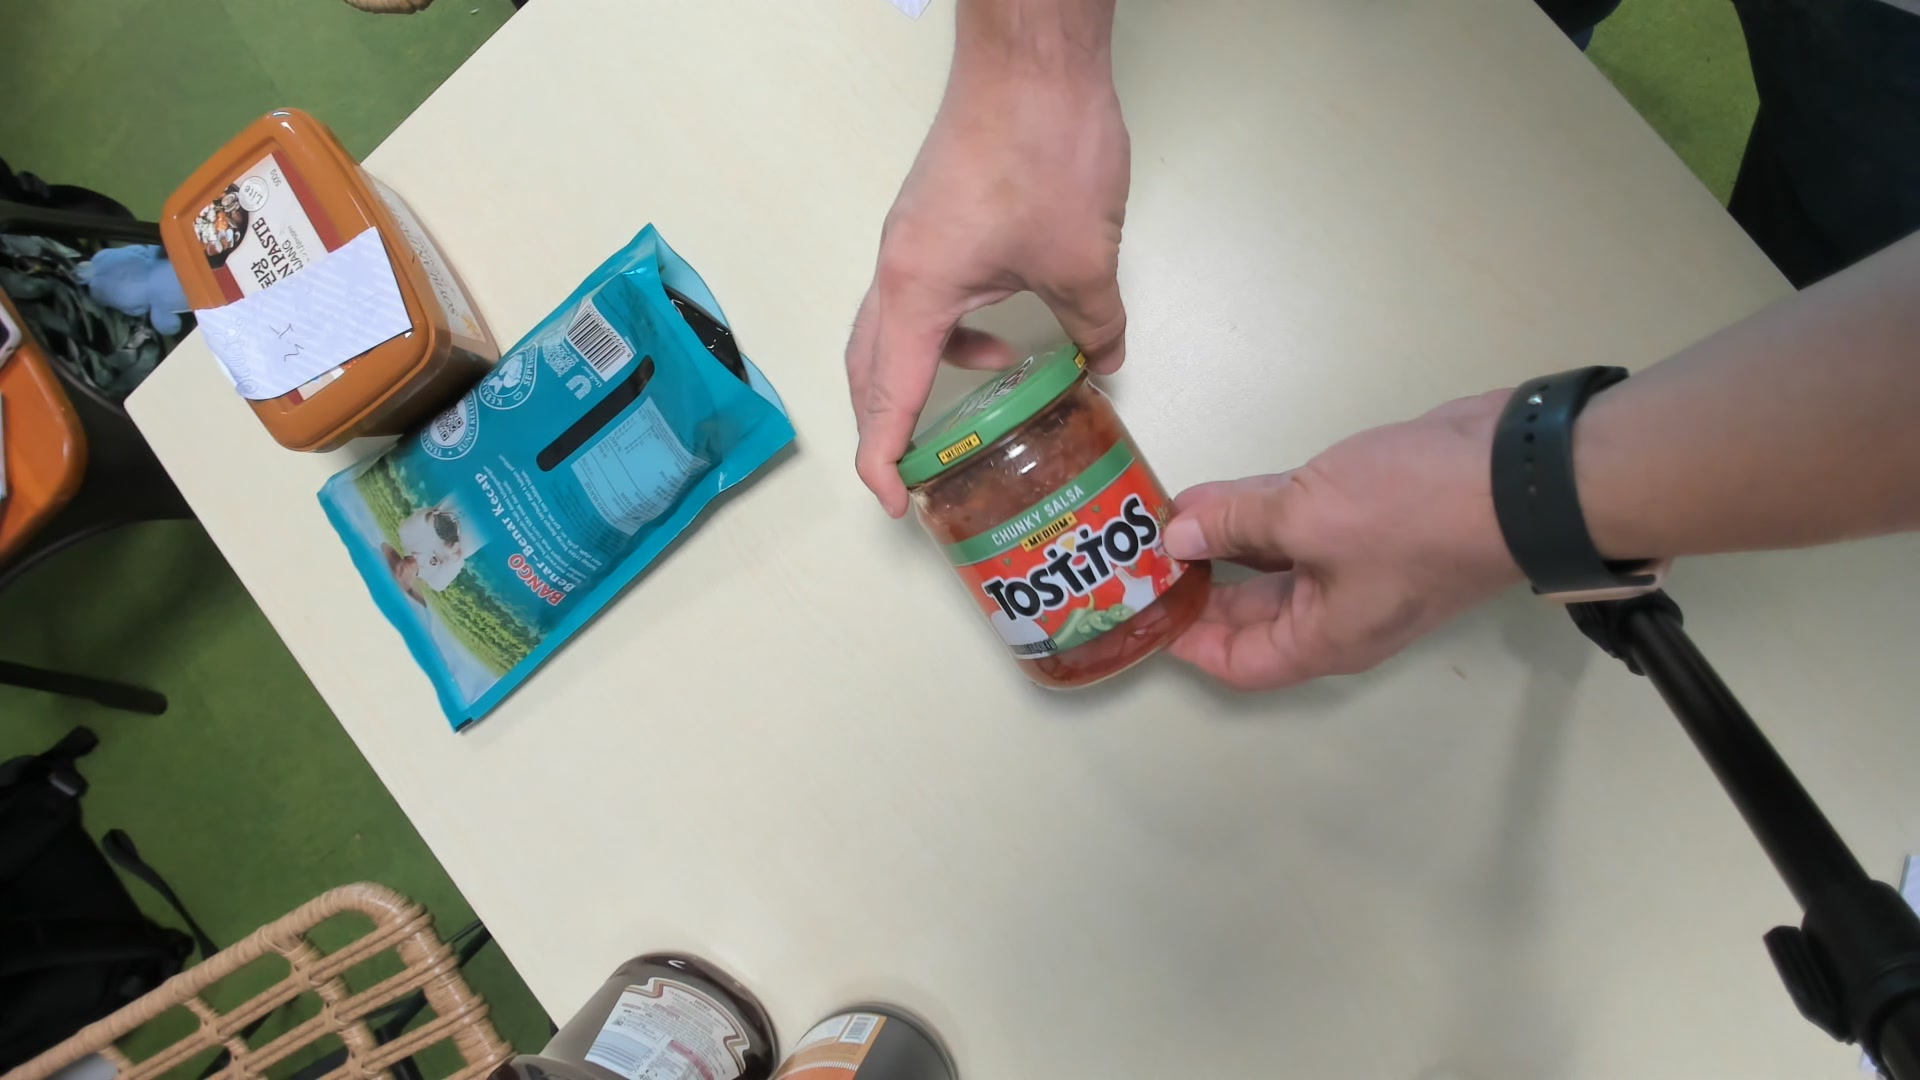OtherSauceDressing_400-499g_NonHalal_NonHealthy: (906, 339, 1211, 698)
